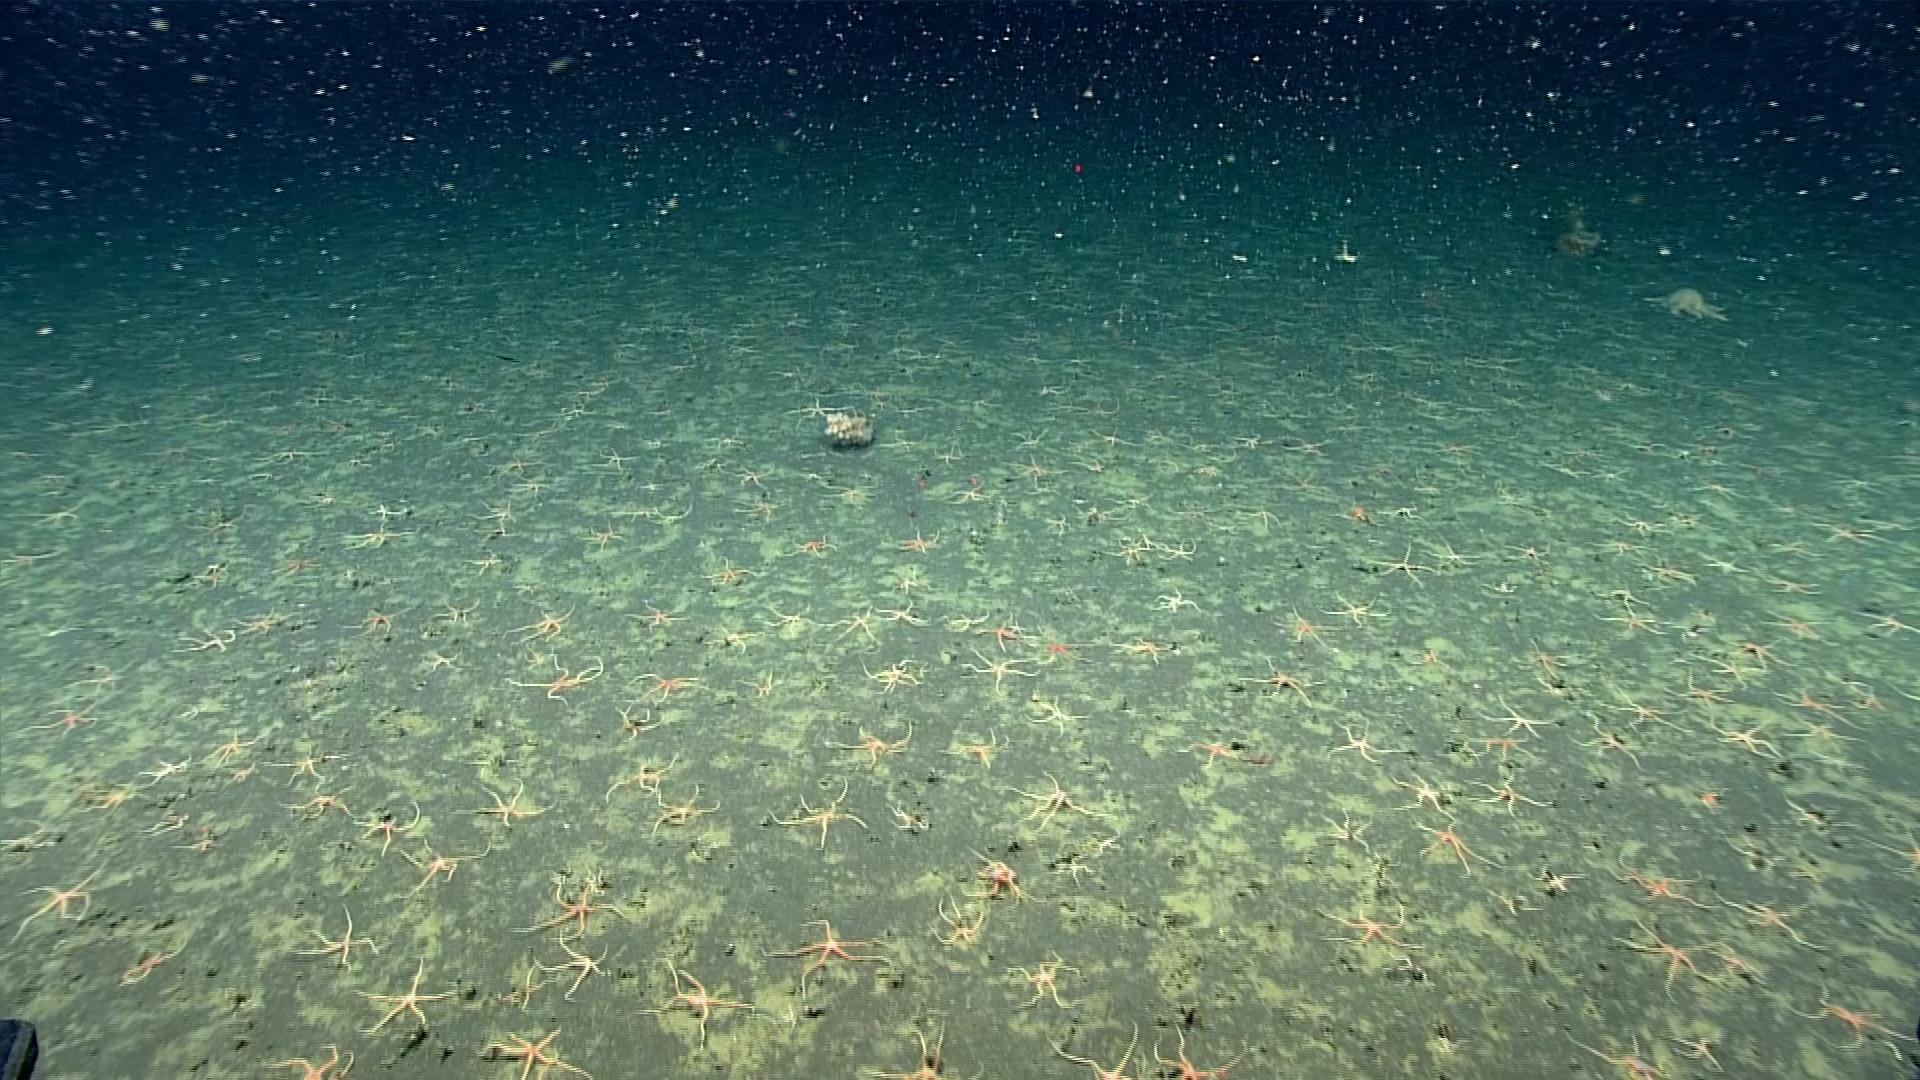brittle_sea_star: (636, 960, 765, 1055), (1772, 976, 1909, 1058), (765, 915, 898, 996), (1611, 918, 1731, 998), (349, 955, 462, 1036), (12, 856, 112, 940), (993, 769, 1122, 833), (1590, 851, 1717, 914), (506, 877, 625, 943), (770, 778, 872, 853), (1315, 891, 1425, 960), (1716, 889, 1829, 955), (392, 833, 504, 894), (479, 1023, 596, 1079), (1404, 804, 1498, 873), (1046, 1019, 1150, 1079), (504, 649, 605, 709), (295, 903, 384, 969), (533, 931, 615, 1002), (458, 774, 551, 832), (1001, 948, 1084, 1013), (1143, 1018, 1226, 1079), (1565, 1029, 1664, 1079), (1240, 657, 1329, 711), (1590, 684, 1689, 733), (828, 717, 911, 773), (645, 781, 724, 839), (952, 644, 1046, 692), (111, 938, 190, 992), (276, 779, 361, 828), (1569, 711, 1644, 766), (924, 895, 996, 952), (1468, 767, 1552, 815), (353, 798, 421, 857), (603, 754, 678, 807), (1780, 708, 1862, 753), (1364, 541, 1437, 589), (1478, 695, 1557, 740), (268, 745, 348, 789), (628, 667, 707, 711), (1391, 767, 1461, 816), (1324, 721, 1396, 767), (1590, 597, 1668, 640), (1709, 713, 1778, 761), (1273, 607, 1341, 654), (264, 1042, 351, 1079), (1693, 646, 1766, 690), (506, 603, 576, 647), (1663, 673, 1734, 716), (1023, 692, 1089, 738), (853, 653, 930, 692), (135, 749, 202, 793), (1174, 732, 1249, 770), (1321, 592, 1393, 632), (73, 651, 138, 691), (939, 727, 997, 771), (823, 604, 878, 649), (1513, 638, 1569, 680), (76, 777, 141, 814), (202, 728, 262, 766), (1849, 607, 1919, 640), (1809, 745, 1873, 781), (621, 603, 684, 636), (975, 858, 1025, 899), (173, 626, 239, 657), (343, 521, 409, 551), (1112, 633, 1172, 666), (758, 604, 812, 640), (133, 807, 194, 839), (342, 605, 402, 637), (1760, 611, 1826, 640), (613, 700, 658, 740), (699, 559, 757, 589), (430, 597, 483, 630), (417, 646, 468, 679), (231, 609, 291, 637), (576, 520, 626, 553), (475, 498, 521, 534), (982, 616, 1026, 653), (877, 599, 928, 628), (1153, 588, 1204, 617), (1646, 560, 1700, 587), (173, 835, 225, 861), (1153, 537, 1200, 566), (223, 762, 264, 795), (789, 531, 836, 559), (274, 551, 326, 576), (1105, 539, 1151, 567), (897, 529, 942, 556), (942, 611, 993, 634), (1509, 539, 1549, 564), (1044, 512, 1073, 537)
